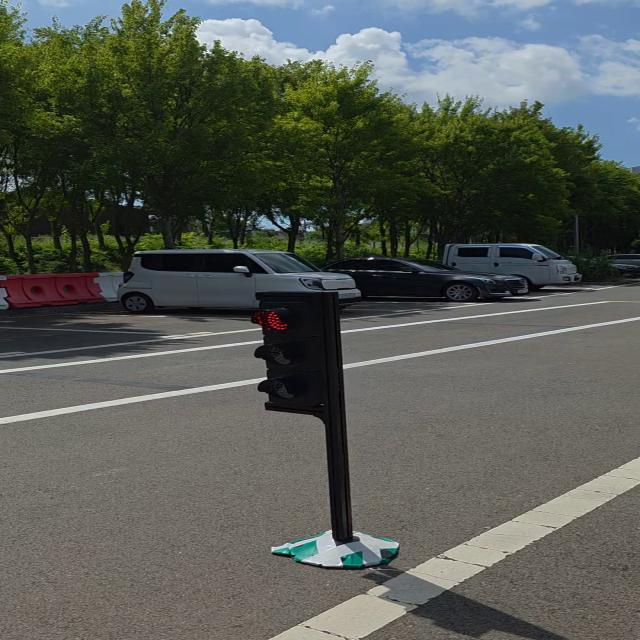red: (252, 298, 333, 415)
